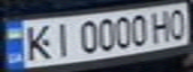0: (75, 17, 100, 54), (97, 16, 118, 52), (130, 11, 151, 46), (115, 12, 133, 48)
H: (148, 7, 175, 43)
I: (48, 20, 75, 58)
K: (18, 21, 57, 62)
O: (163, 6, 193, 40)
